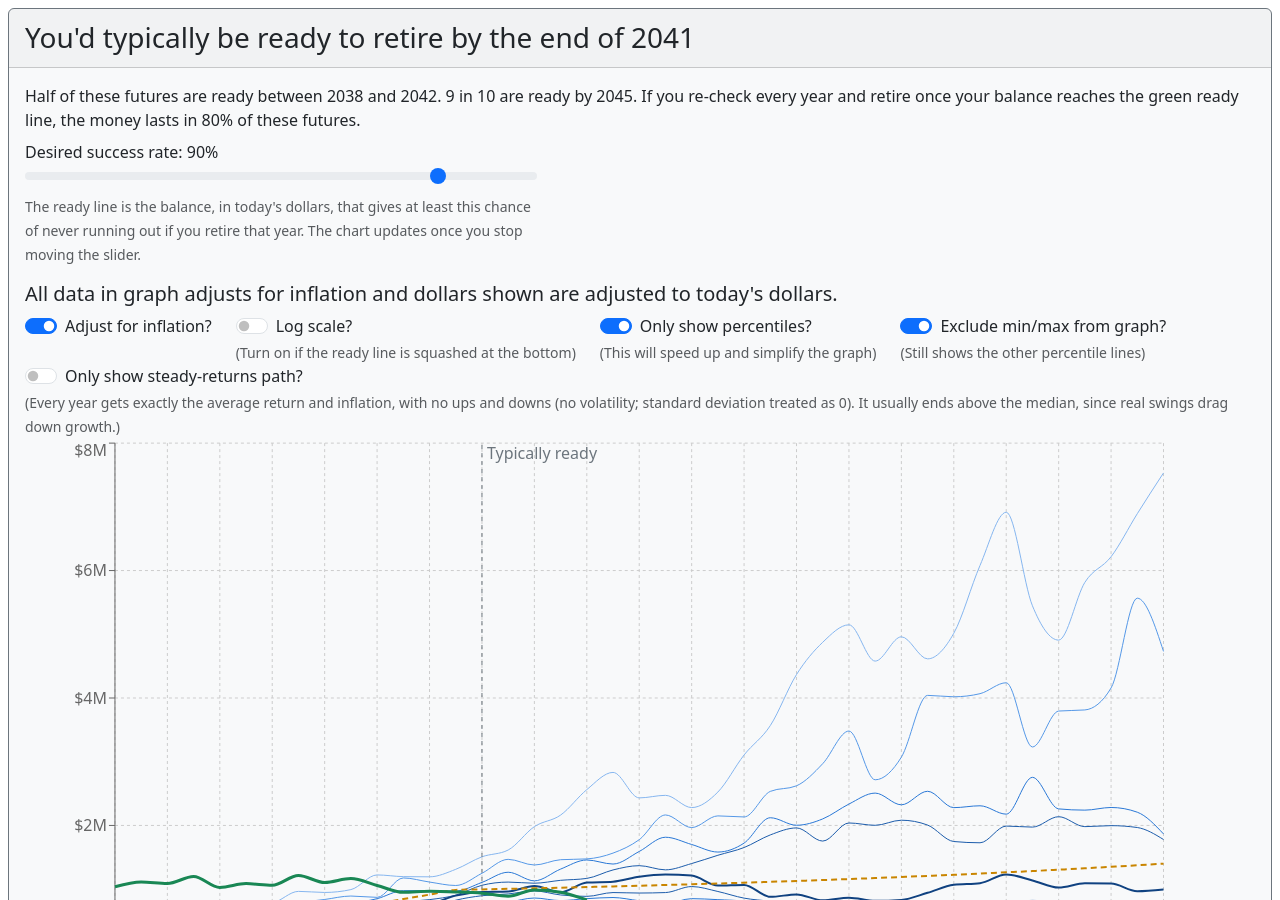
Test: MonteCarloResultsCard › the ready line needs the inflation-adjusted view
Click the checkbox labelled "Adjust for inflation?". click: (41, 326)
box: [25,318,57,334]
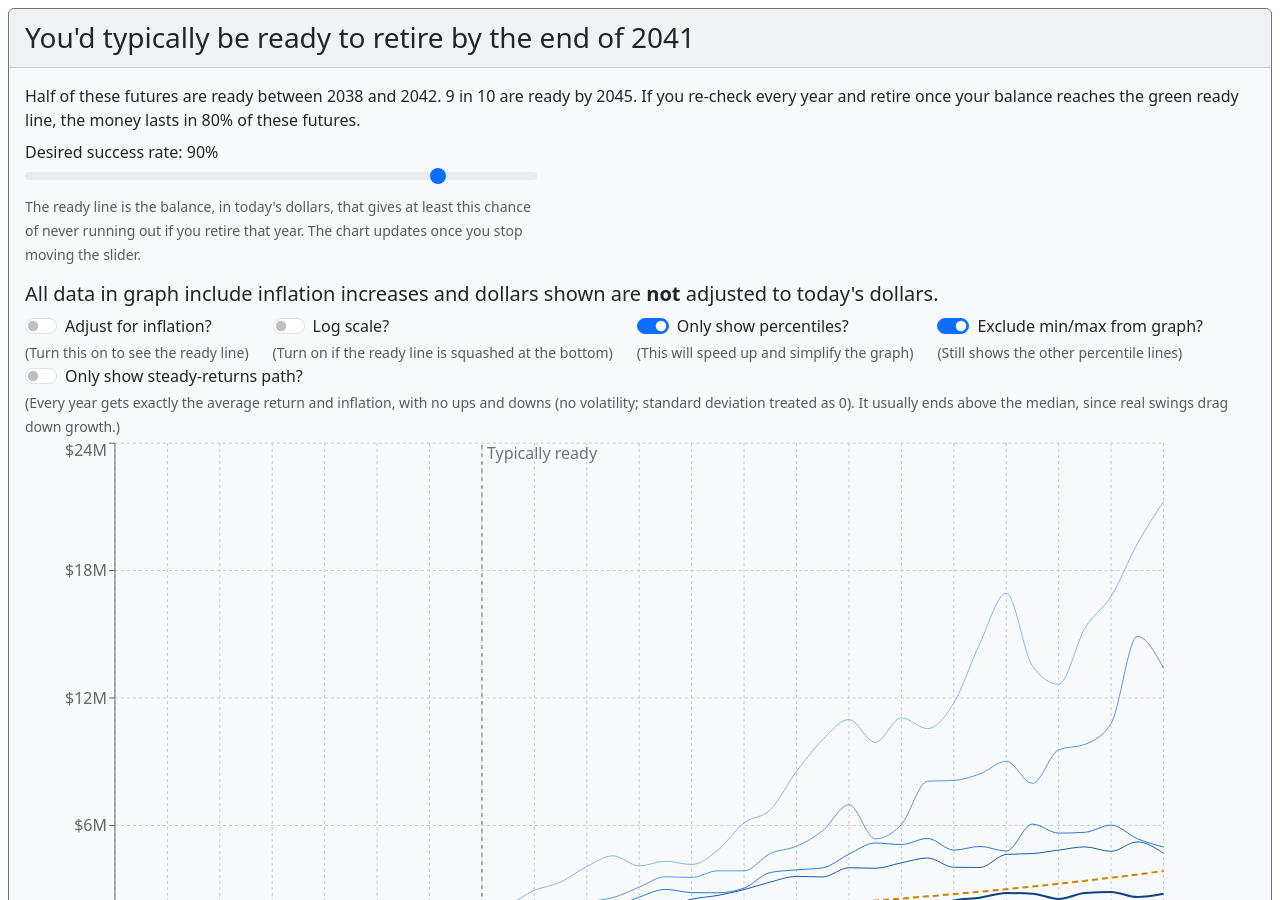
Check: the text "(Turn this on to see the ready line)" is shown, box [25,343,249,362]
